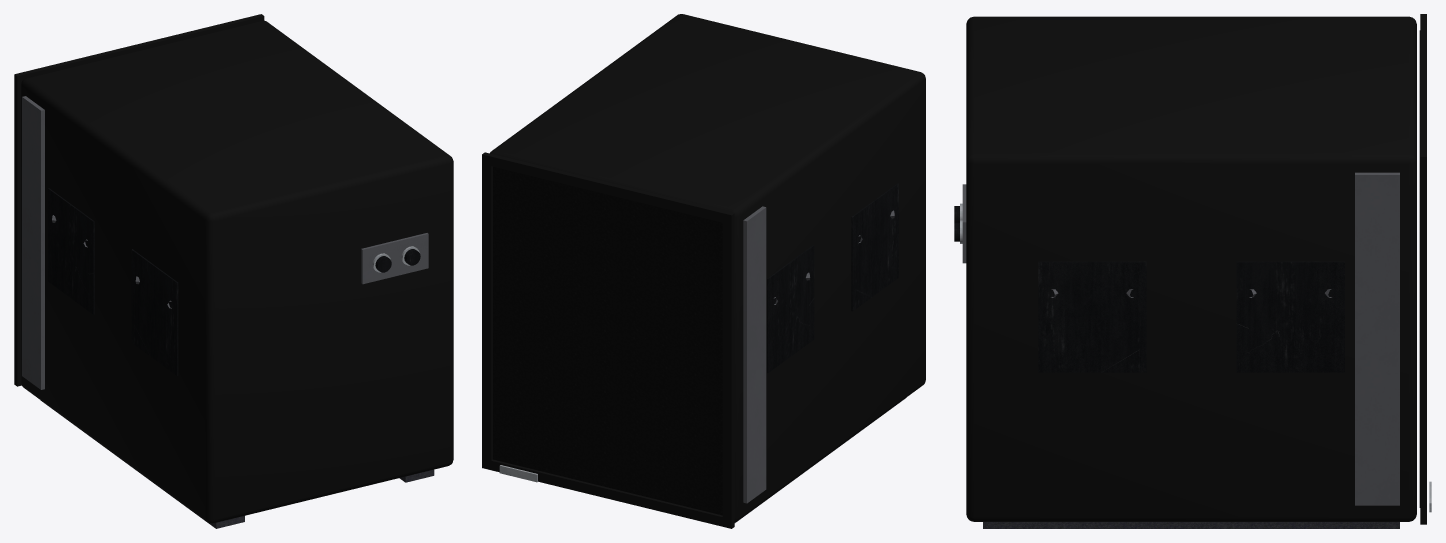
File: sub_single_18.gltf
3 views of the same model, side by side, from view 1: azimuth 30°, elevation 25°; view 2: azimuth 150°, elevation 25°; view 3: azimuth 270°, elevation 25° (orthographic). The views are drawn at different scales.
Visible parts, largest first — view 1: sub_single_18; view 2: sub_single_18; view 3: sub_single_18.
Boxes of the visible parts, x1,y1,x2,y2 form: sub_single_18: (14,14,453,528); sub_single_18: (482,14,925,528); sub_single_18: (954,14,1431,528).
Bounding box in the file's own units: 0.6205 × 0.745 × 0.847.
Materials: 6 (6 with a texture image).
